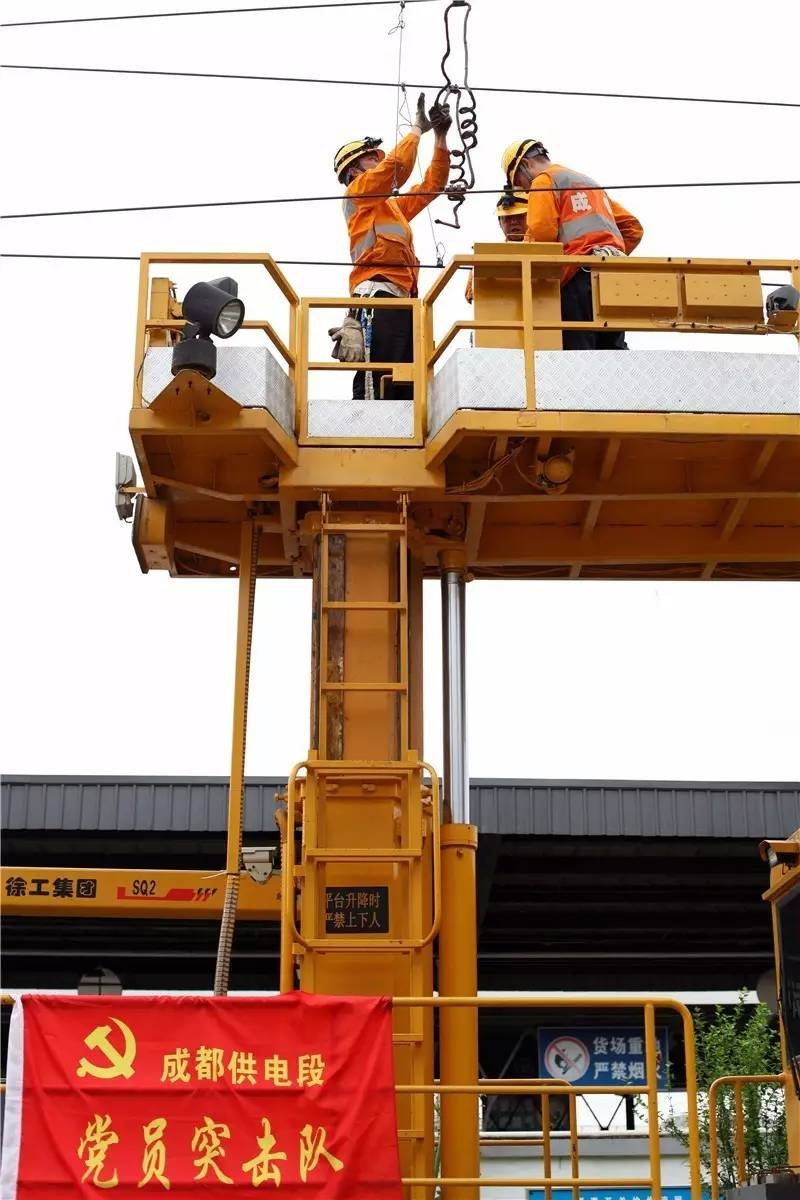yellow: (331, 135, 385, 188), (500, 136, 551, 191)
